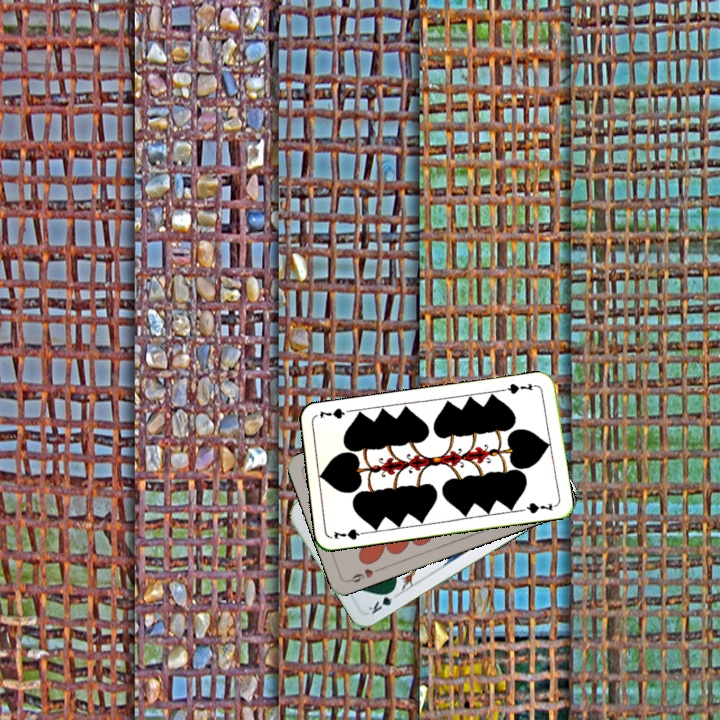G7: (499, 379, 540, 396), (330, 525, 370, 542)
GK: (364, 585, 401, 617)
H9: (344, 564, 383, 585)
